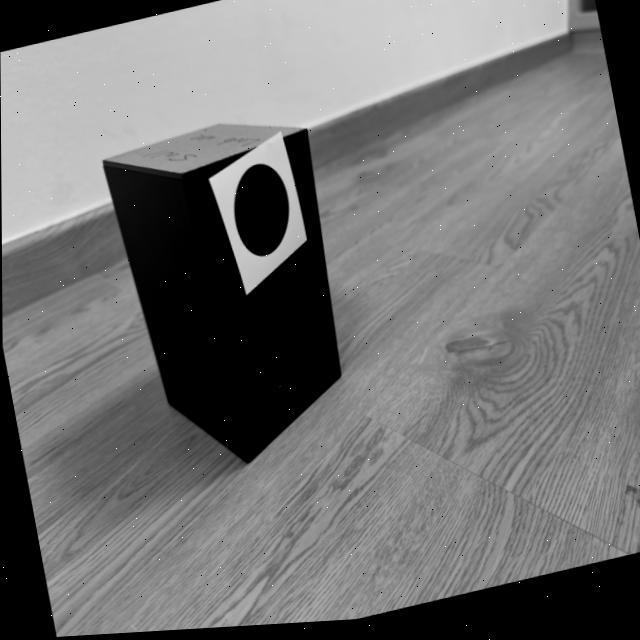CIRCLE: (233, 166, 288, 259)
